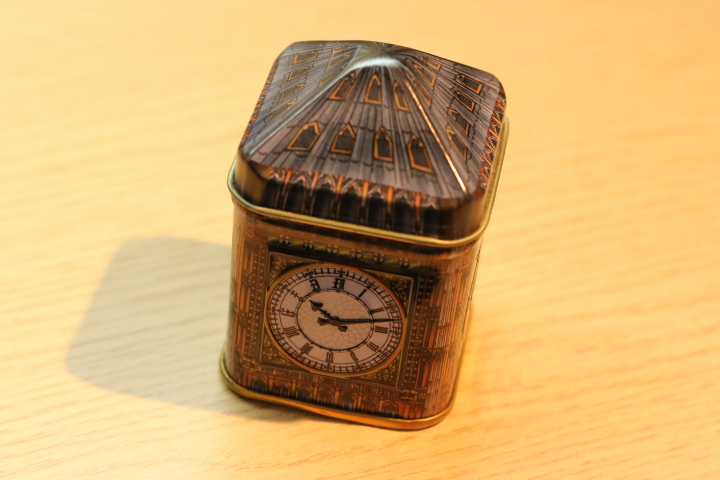Big Ben: (204, 24, 527, 449)
